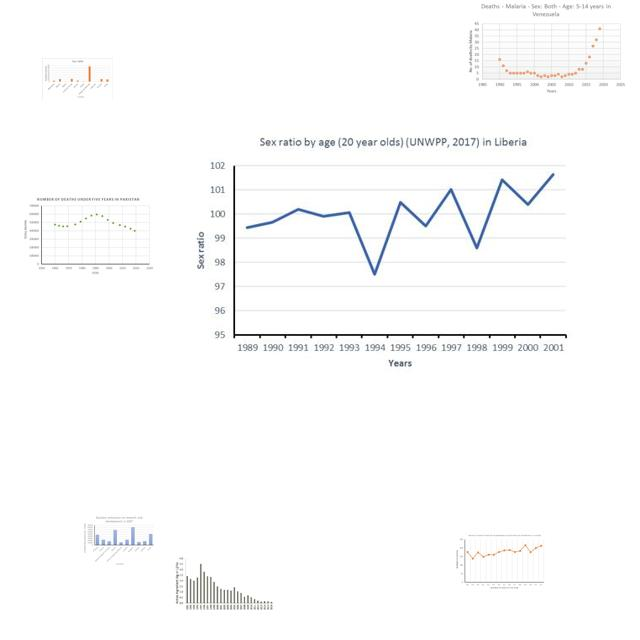Graph: (183, 131, 572, 376), (464, 0, 627, 95), (21, 195, 156, 278), (174, 555, 275, 613), (454, 533, 546, 592), (83, 514, 155, 567), (42, 58, 113, 100)
